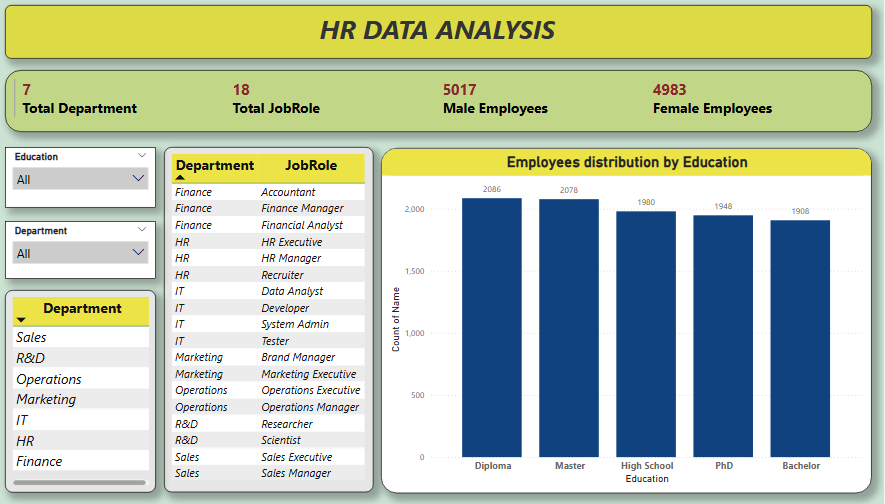

The page's visual inventory and layout, read from the dashboard file:
{"tool":"powerbi","page":{"name":"Page 1","canvas":[1285,737],"ordinal":0},"visuals":[{"type":"tableEx","fields":{"Values":["Employee_Data.Department","Employee_Data.JobRole"]},"box":[240.6,218.8,304.3,501.4],"z":0},{"type":"textbox","box":[10.2,13.1,1257.8,78.3],"z":1000},{"type":"columnChart","title":"Employees distribution by Education","fields":{"Category":["Employee_Data.Education"],"Y":["CountNonNull(Employee_Data.Name)"]},"box":[555.7,220.5,712.3,500.5],"z":3000},{"type":"slicer","fields":{"Values":["Employee_Data.Education"]},"box":[10.2,219.1,219.1,88.5],"z":4000},{"type":"slicer","fields":{"Values":["Employee_Data.Department"]},"box":[10.2,326.4,219.1,84.1],"z":5000},{"type":"tableEx","fields":{"Values":["Employee_Data.Department"]},"box":[10.1,426.1,218.8,294.2],"z":6000},{"type":"multiRowCard","fields":{"Values":["Employee_Data.Department","Employee_Data.JobRole","Employee_Data.Total male","Employee_Data.Total female"]},"box":[10.2,107.4,1257.8,89.9],"z":7000}]}

Visuals, with their boxes in screenshot pixels (x1, y1, x2, y2), scaled from the page's 1285x737 canvas onto the 885x504 screenshot:
tableEx - Employee_Data.Department x Employee_Data.JobRole: bbox=[166, 150, 375, 493]
textbox: bbox=[7, 9, 873, 63]
"Employees distribution by Education" columnChart: bbox=[383, 151, 873, 493]
slicer - Employee_Data.Education: bbox=[7, 150, 158, 210]
slicer - Employee_Data.Department: bbox=[7, 223, 158, 281]
tableEx - Employee_Data.Department: bbox=[7, 291, 158, 493]
multiRowCard - Employee_Data.Department x Employee_Data.JobRole: bbox=[7, 73, 873, 135]
